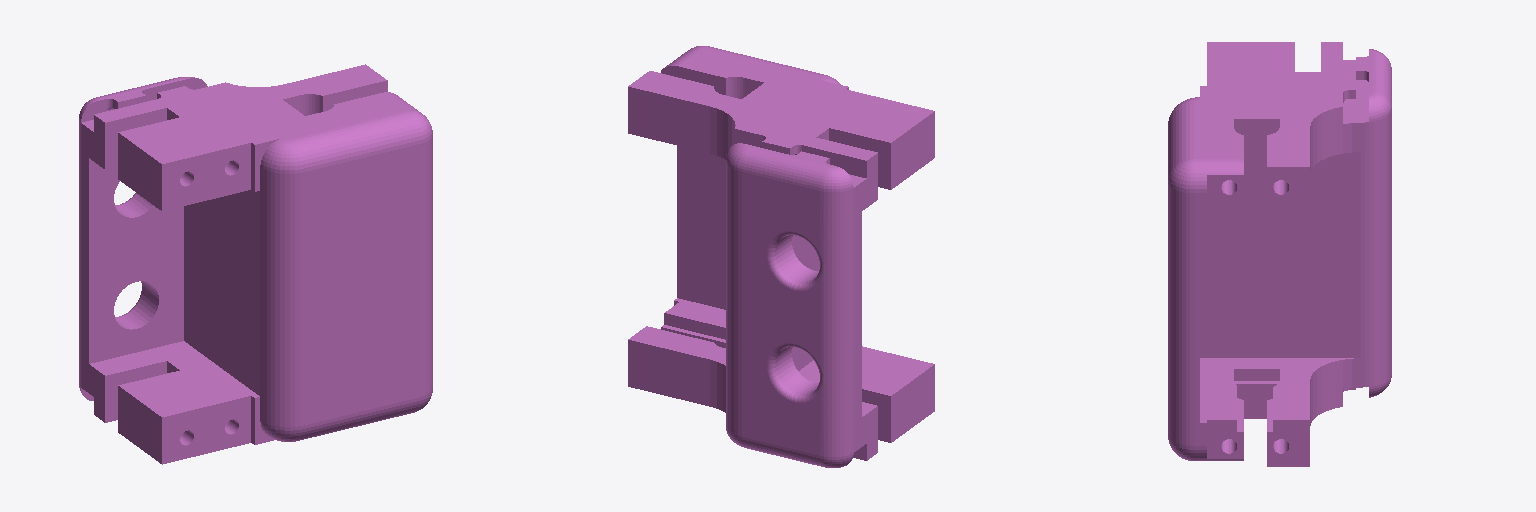
The model's file is openpode_attache_milieu.obj.
The picture shows the model from 3 angles: view 1: azimuth 30°, elevation 25°; view 2: azimuth 150°, elevation 25°; view 3: azimuth 270°, elevation 25°; orthographic projection.
Parts seen in each view (by area): view 1: bi_axe; view 2: bi_axe; view 3: bi_axe.
Boxes of the visible parts, box(x1,y1,x2,y2) form: bi_axe: box(79, 64, 432, 464); bi_axe: box(628, 46, 934, 467); bi_axe: box(1168, 42, 1391, 466).
Size of the model in its own units: 46.4 by 51 by 34.5.